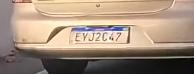Placa_mercosul_carro: (69, 26, 130, 44)
